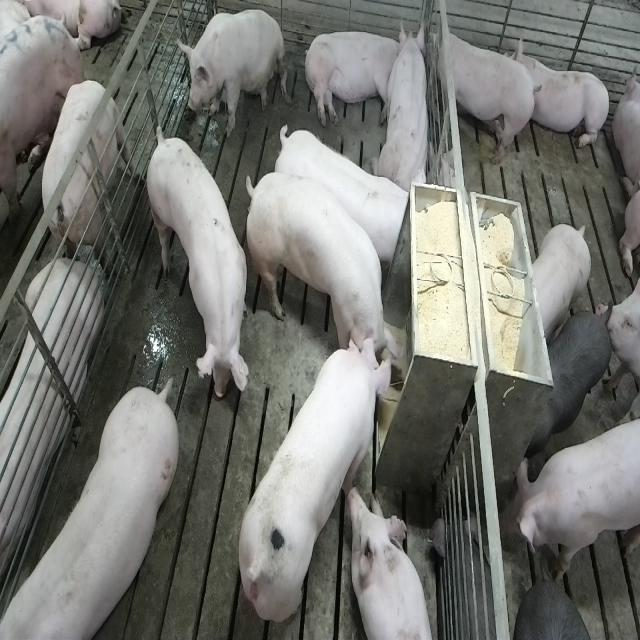Feeding: (235, 330, 401, 626), (248, 168, 413, 382)
Lateral_lying: (302, 20, 421, 128)
Sitting: (174, 8, 286, 138)
Standing: (0, 383, 176, 640), (143, 128, 247, 413), (508, 408, 638, 581), (273, 122, 412, 264), (34, 75, 132, 276), (0, 10, 83, 236), (433, 20, 539, 166), (534, 305, 613, 451), (530, 222, 591, 341), (517, 572, 599, 638)
Sternal_lying: (0, 254, 100, 605), (347, 483, 436, 640), (516, 36, 612, 154)
